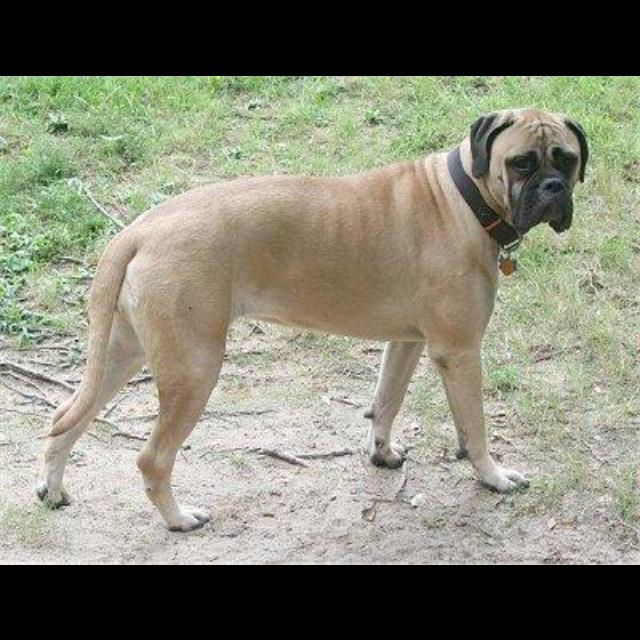bullmastiff: (35, 107, 590, 534)
